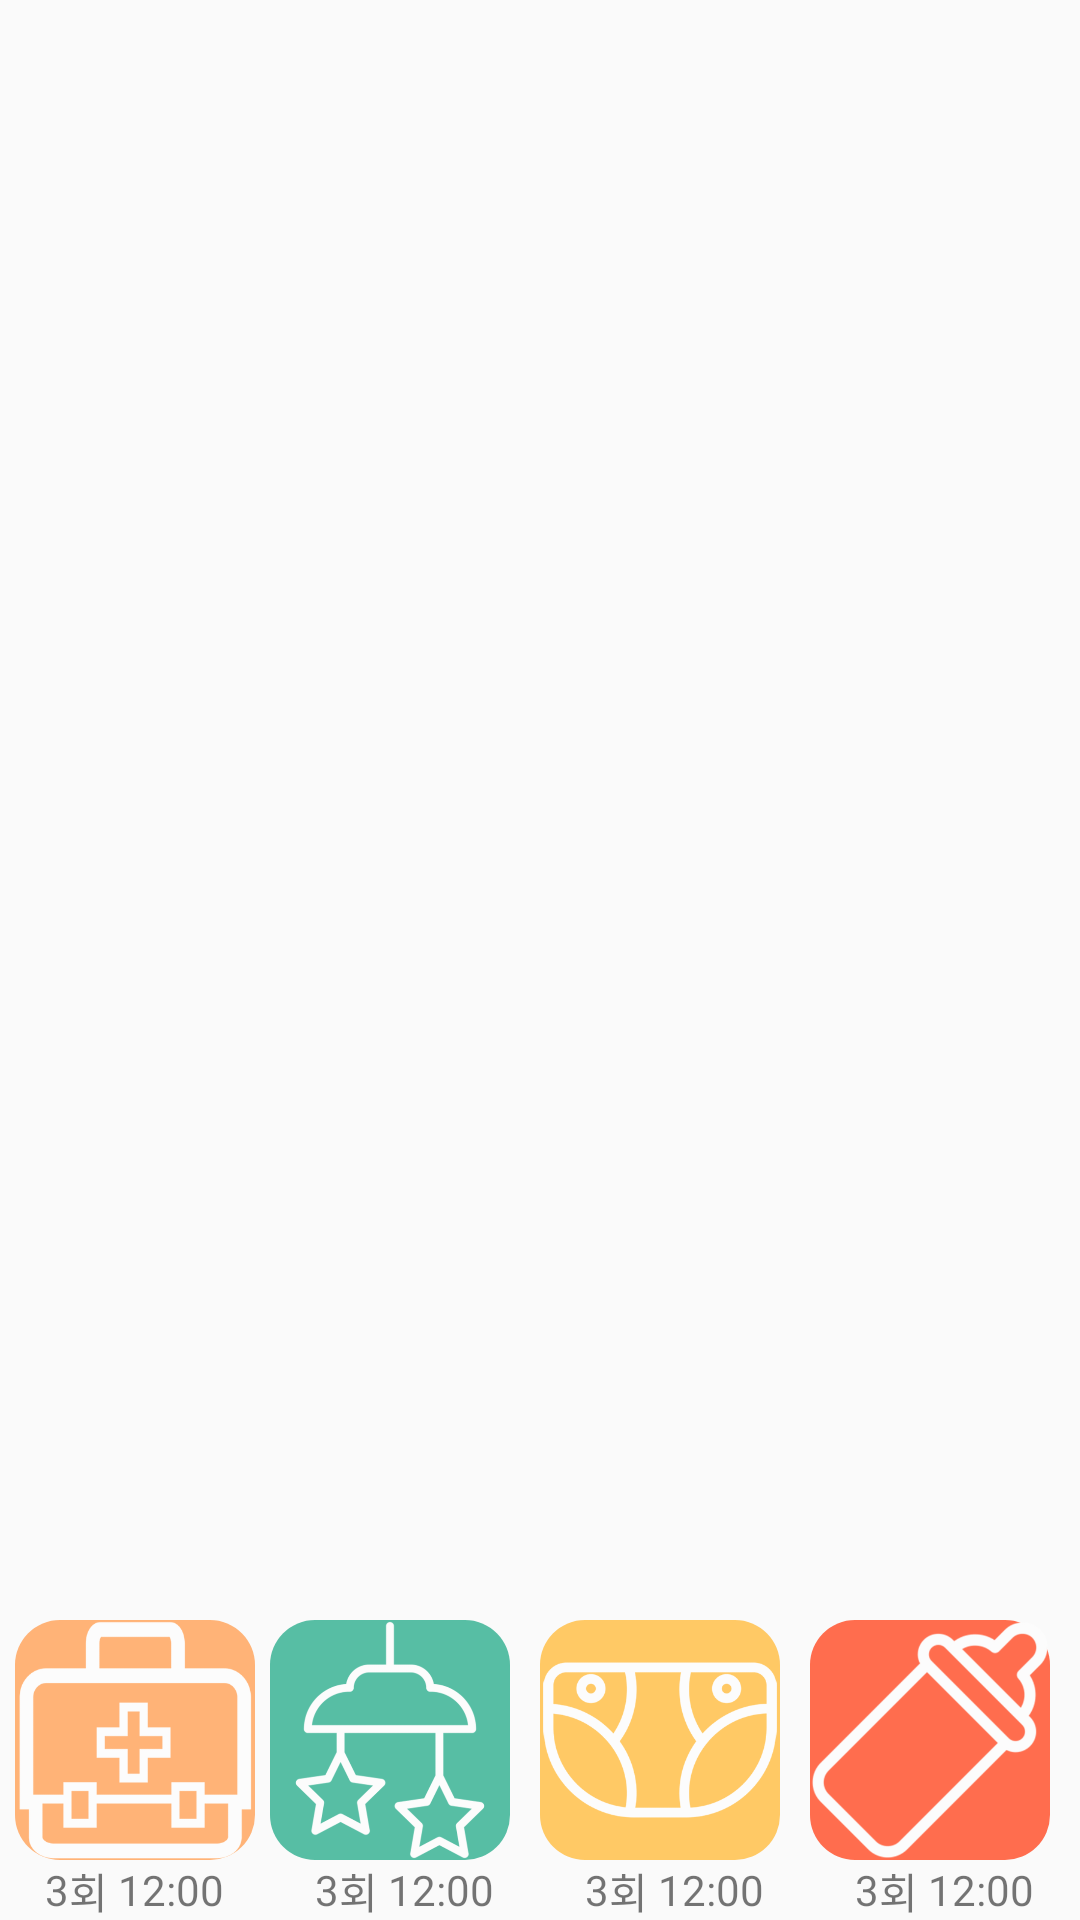

Icon bounding boxes for this 1080 x 1920 phone screenshot, format (x1, y1, x2, y2):
diaper: (540, 1620, 780, 1860)
medicine: (15, 1620, 255, 1860)
milk: (810, 1620, 1050, 1860)
sleep: (270, 1620, 510, 1860)
